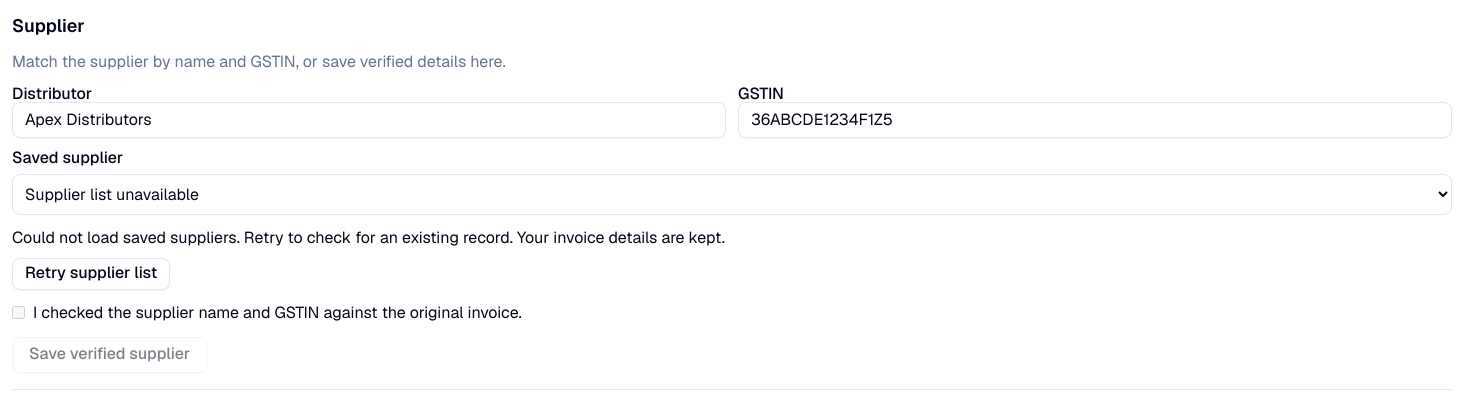
Test case: distinguishes list failure from an empty directory and supports retry
Click the button "Retry supplier list" at (91, 274), box [12,258,170,290]
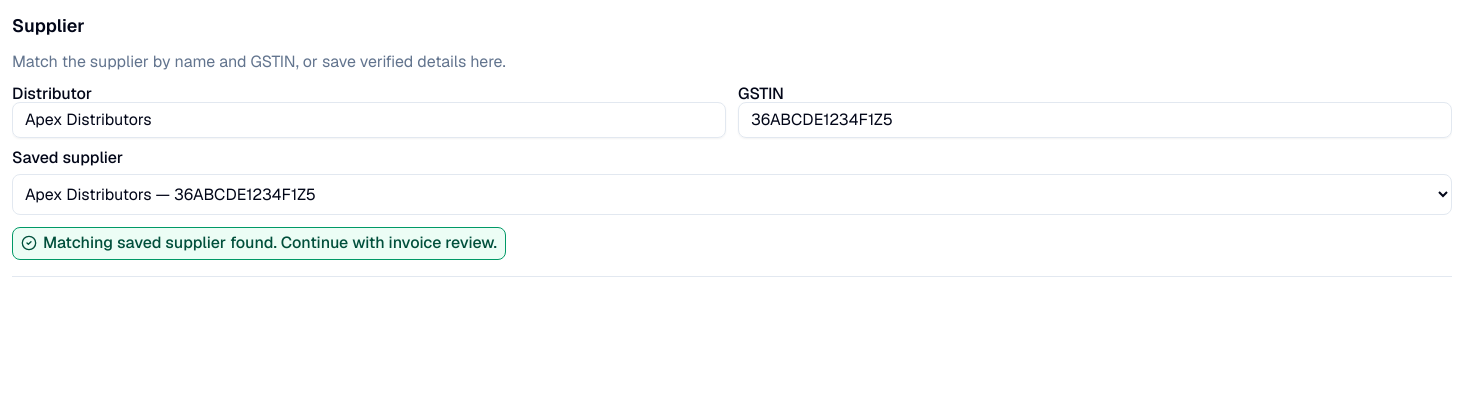
Expected: the text "Matching saved supplier found. Continue with invoice review." is shown, [43,232,497,255]
